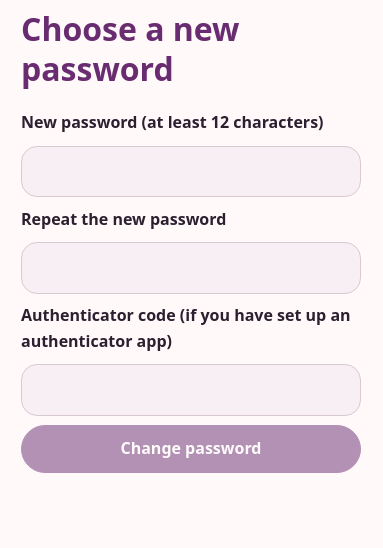
Test case: ResetPassword › tells the user to slow down when rate limited
This screenshot has width=383, height=548.
Type "a-long-new-passphrase" into the password field labelled "New password (at least 12 characters)" at (191,171), box [21,146,361,197]
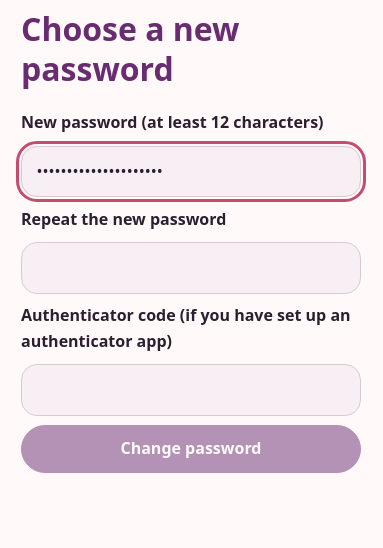
Type "a-long-new-passphrase" into the password field labelled "Repeat the new password" at (191,268), box [21,242,361,294]
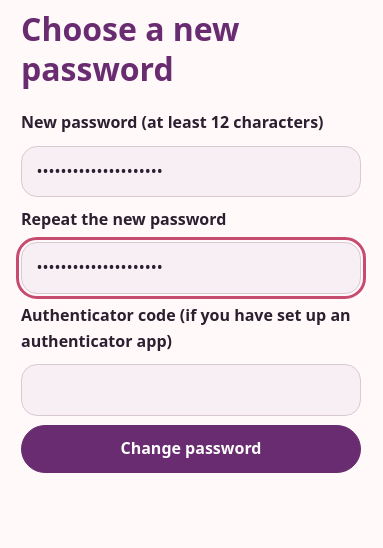
Click the button "Change password" at (191,449), box [21,425,361,473]
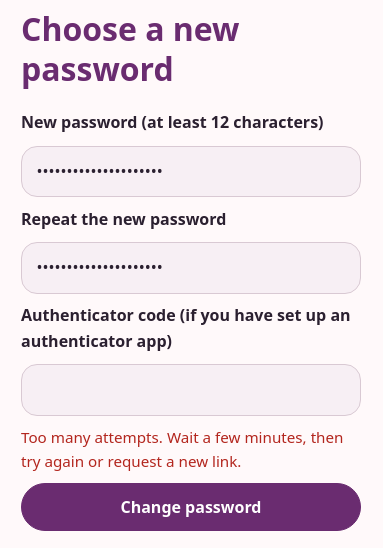
Expected: the message shows "Too many attempts", [21,427,344,472]
